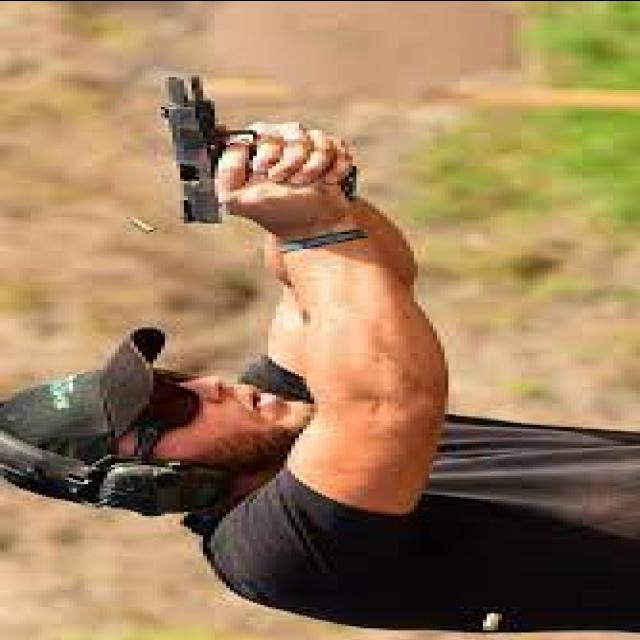weapons: (137, 65, 346, 234)
